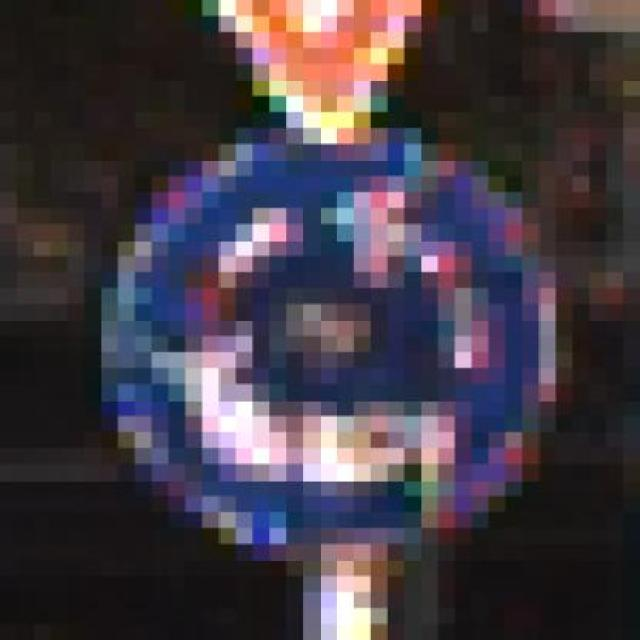Round-About: (84, 112, 590, 576)
